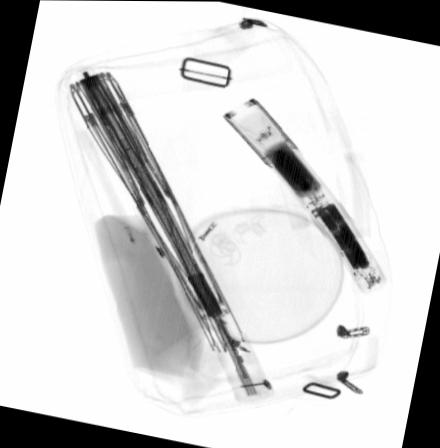Baton: (217, 94, 388, 294)
